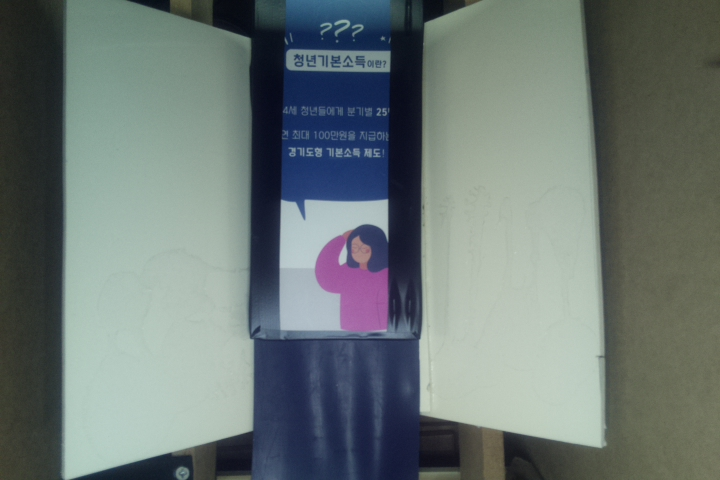book: (246, 1, 423, 342)
